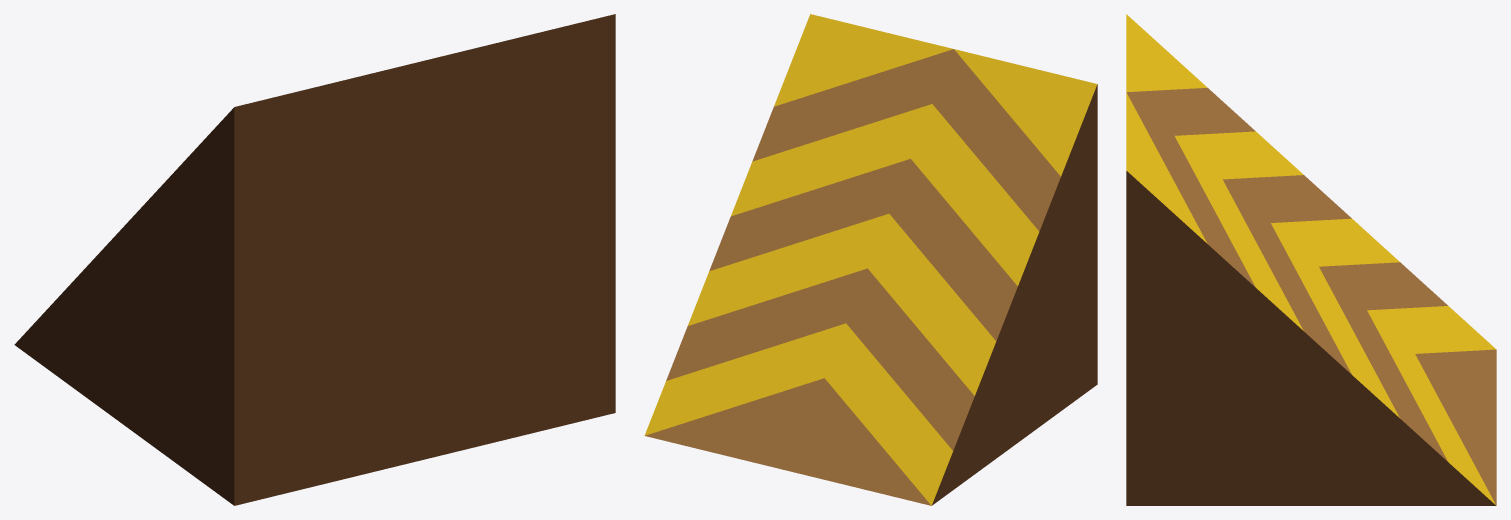
The model's file is ramp.glb.
3 views of the same model, side by side, from view 1: azimuth 30°, elevation 25°; view 2: azimuth 150°, elevation 25°; view 3: azimuth 270°, elevation 25° (orthographic). The views are drawn at different scales.
Parts seen in each view (by area): view 1: ramp_mesh; view 2: ramp_mesh; view 3: ramp_mesh.
Part boxes in pixels (x1,y1,x2,y2): ramp_mesh: [14, 14, 615, 505]; ramp_mesh: [644, 14, 1097, 505]; ramp_mesh: [1126, 14, 1496, 505].
Bounding box in the file's own units: 1 × 1 × 1.
